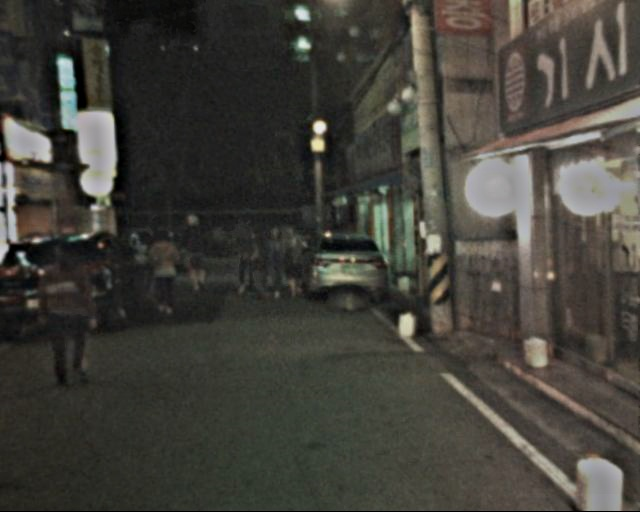person: (45, 241, 100, 373), (141, 219, 180, 320), (226, 214, 263, 290), (177, 215, 213, 293), (251, 219, 282, 301), (278, 223, 310, 299)
